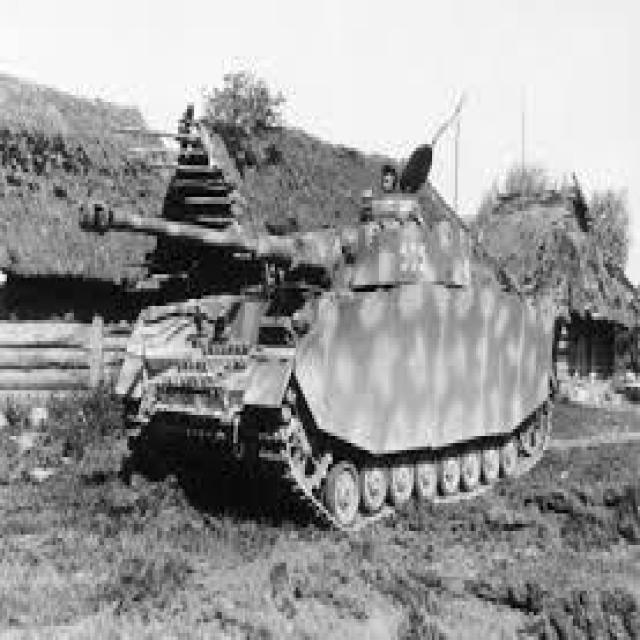MIL_MBT: (22, 37, 572, 614)
